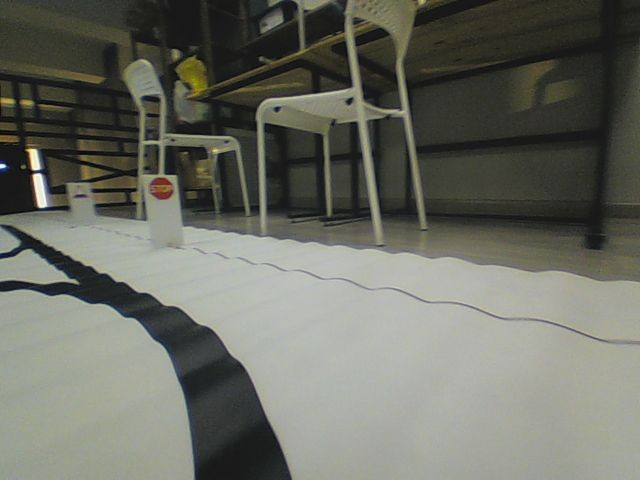Stop: (148, 176, 174, 201)
